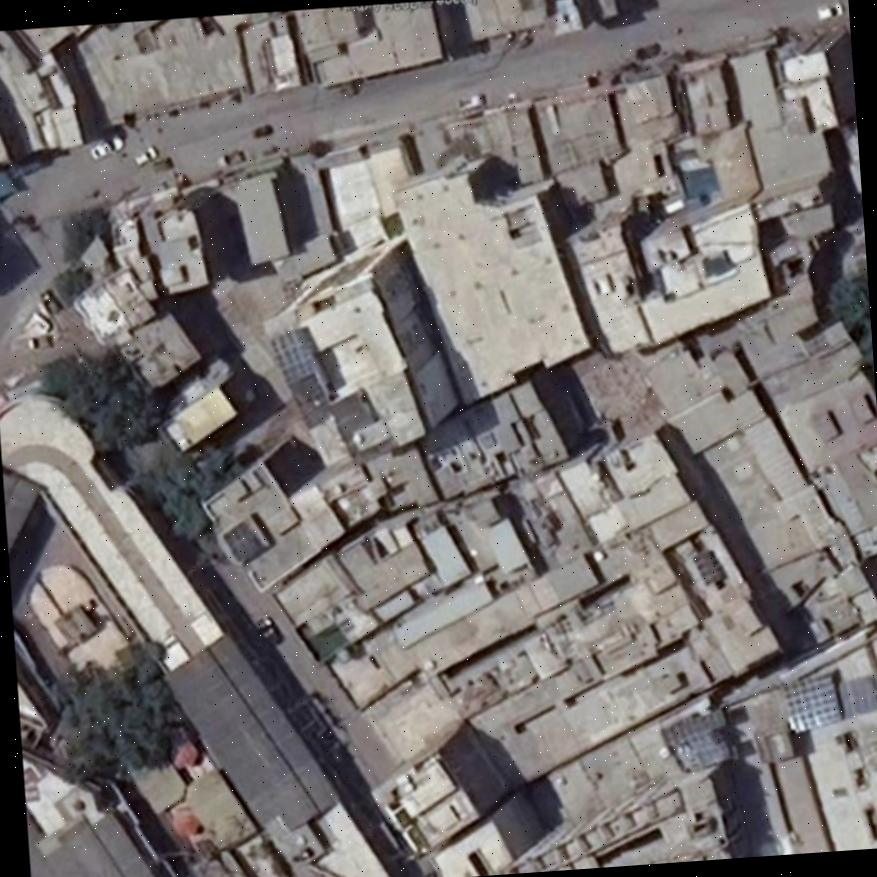Solarpanel: (268, 323, 323, 407), (662, 710, 730, 771), (782, 667, 842, 734)
